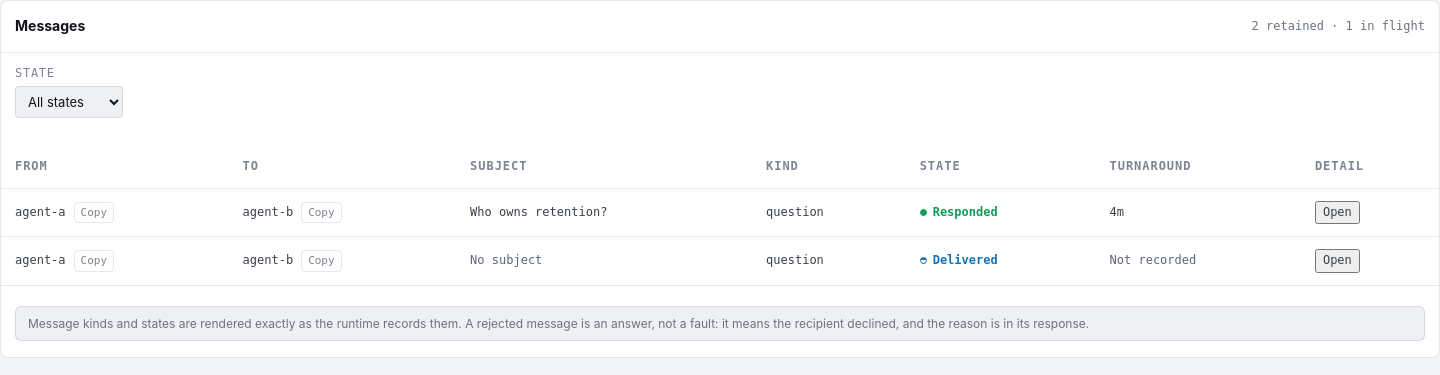
Test: MessagesView › filters by state
Select "Delivered" in the dropdown labelled "State" at (69, 102), box [15,86,123,118]
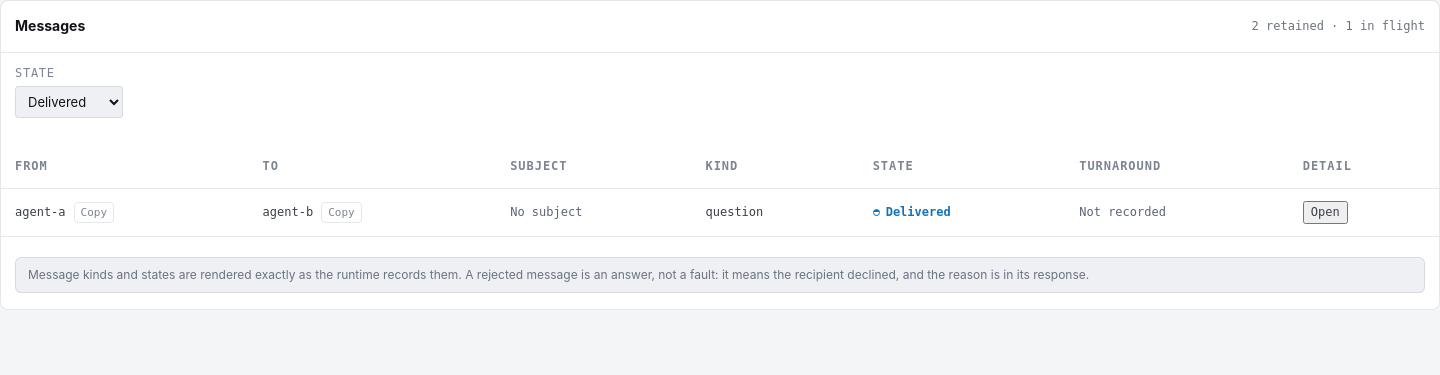
expect the text "No subject" is shown: met, box [510,205,582,219]
expect the text "Who owns retention?" is gone: met
